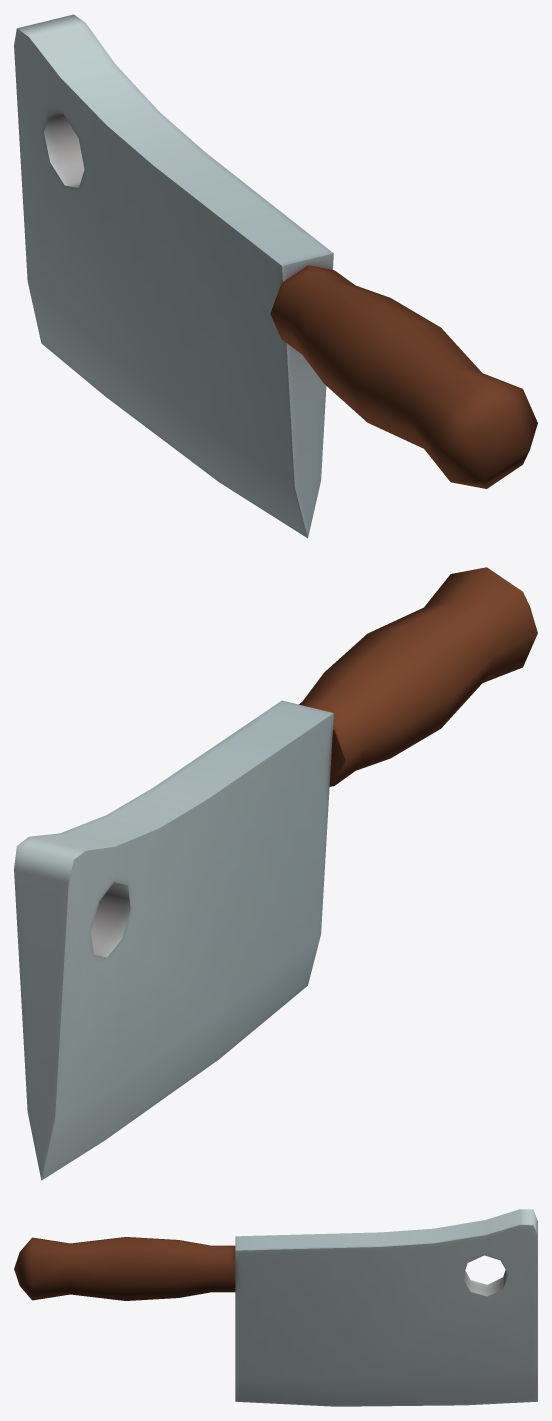
Rendered from big_knife_01.fbx.
3 renders of one model, top to bottom at view 1: azimuth 30°, elevation 25°; view 2: azimuth 150°, elevation 25°; view 3: azimuth 270°, elevation 25°, orthographic. The views are drawn at different scales.
Visible parts, largest first — view 1: big_knife_01; view 2: big_knife_01; view 3: big_knife_01.
Boxes of the visible parts, x1,y1,x2,y2 form: big_knife_01: (14,14,537,538); big_knife_01: (14,567,537,1180); big_knife_01: (14,1209,537,1406).
Bounding box in the file's own units: 6.26 × 19.19 × 48.06.
